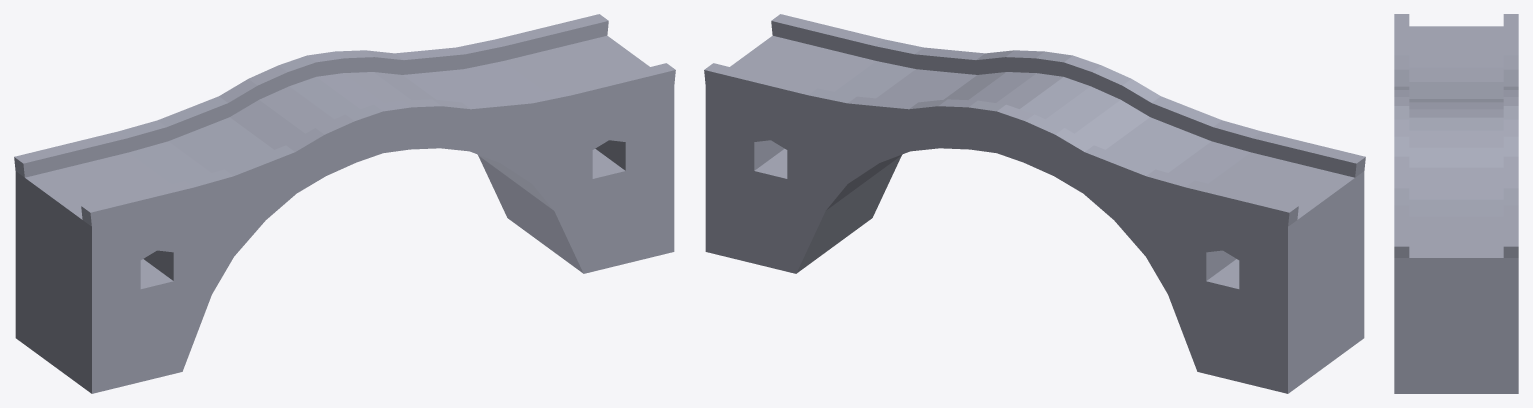
The model's file is Puente.fbx.
3 views of the same model, side by side, from view 1: azimuth 30°, elevation 25°; view 2: azimuth 150°, elevation 25°; view 3: azimuth 270°, elevation 25° (orthographic). The views are drawn at different scales.
Parts seen in each view (by area): view 1: Puente; view 2: Puente; view 3: Puente.
Part boxes in pixels (box(x1,y1,x2,y2)): Puente: box(14, 14, 675, 393); Puente: box(704, 14, 1365, 393); Puente: box(1394, 14, 1518, 393).
Size of the model in its own units: 4546 by 1569 by 1027.
